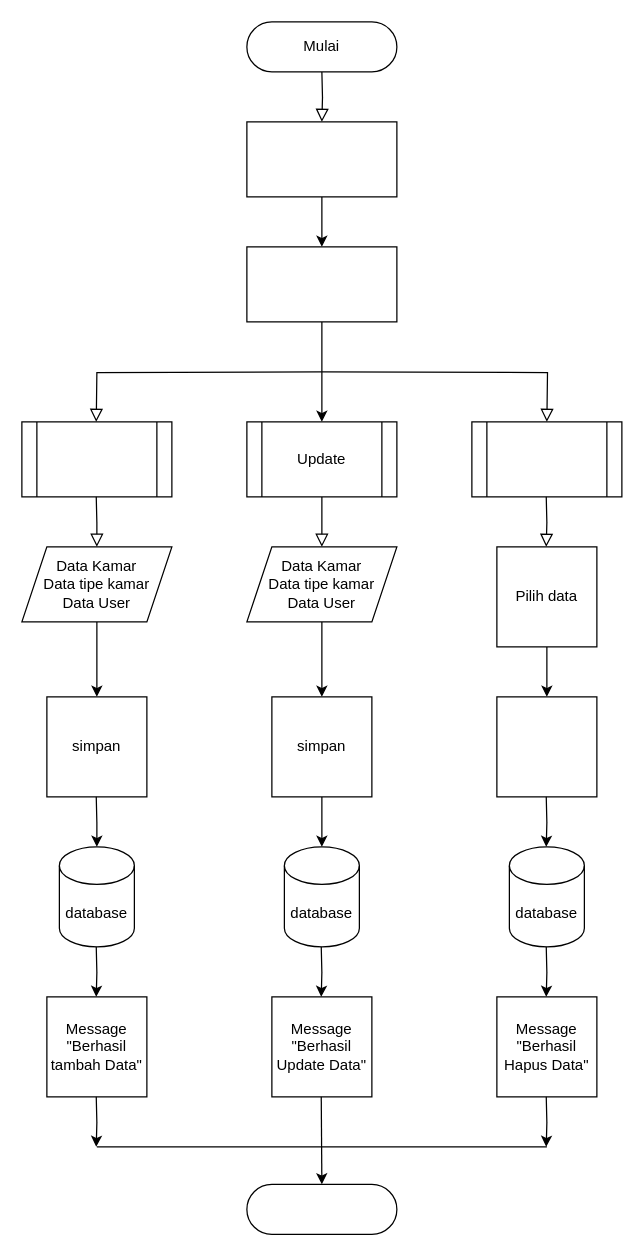
This 644x1256 diagram has some shape labels left out. The shapes that lost their labels are listed below. From the top down, each one's centre as x and y in pixels, then its label:
point 321,159: Masuk Halaman Admin
point 321,284: Melihat data kamar, tipe kamar, user
point 96,459: Create
point 546,459: Delete
point 546,746: Hapus
point 321,1208: Selesai
